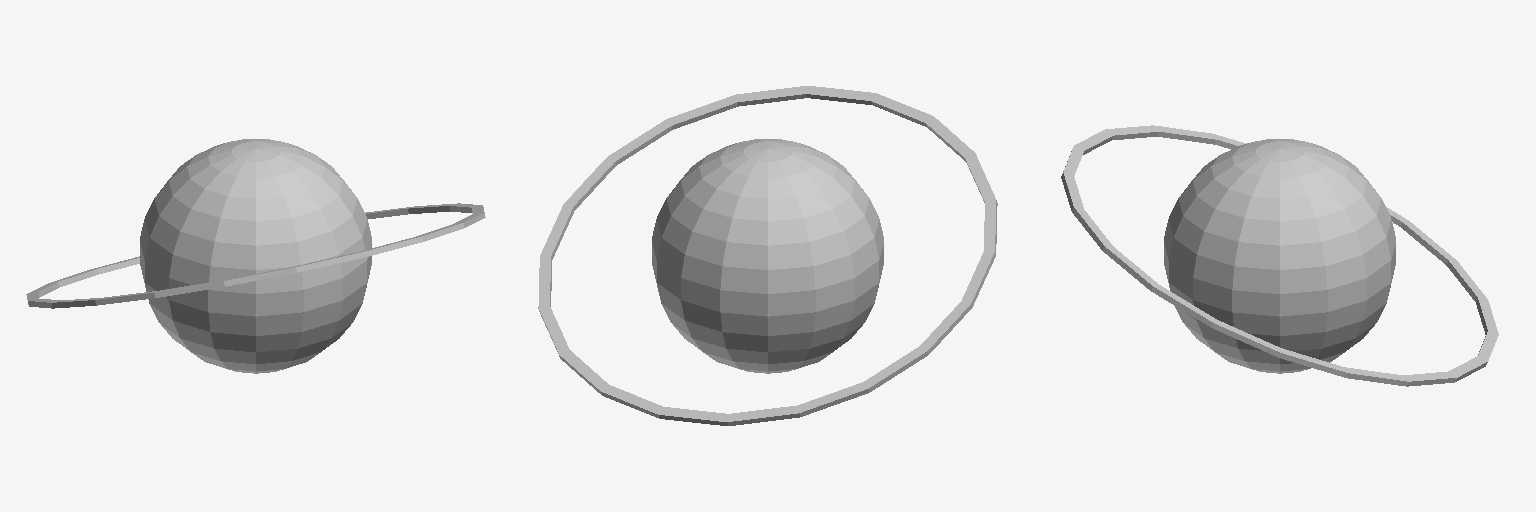
The model's file is ControllerTP.obj.
The picture shows the model from 3 angles: view 1: azimuth 30°, elevation 25°; view 2: azimuth 150°, elevation 25°; view 3: azimuth 270°, elevation 25°; orthographic projection.
Parts seen in each view (by area): view 1: pSphere1, pPipe1; view 2: pSphere1, pPipe1; view 3: pSphere1, pPipe1.
Part boxes in pixels (left/top/right/bottom): pSphere1: left=140, top=139, right=371, bottom=373; pPipe1: left=26, top=203, right=485, bottom=308; pSphere1: left=652, top=139, right=883, bottom=373; pPipe1: left=538, top=86, right=997, bottom=425; pSphere1: left=1164, top=139, right=1395, bottom=373; pPipe1: left=1061, top=125, right=1498, bottom=386.
Bounding box in the file's own units: 2 × 1 × 1.86.